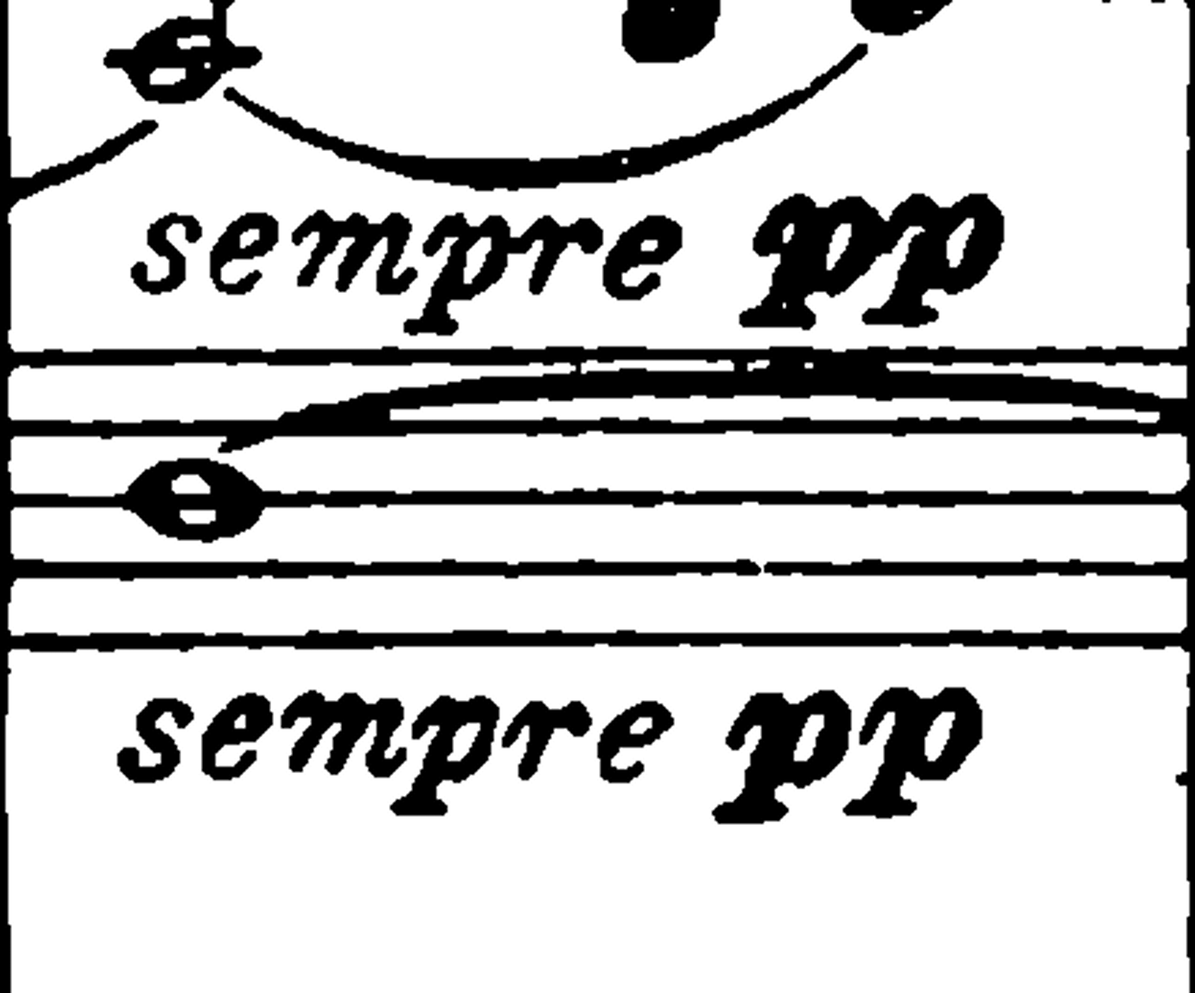beam: (772, 41, 867, 118), (70, 118, 155, 184)
flag8thDown: (248, 703, 272, 742), (690, 19, 714, 55)
noteheadBlackInSpace: (412, 766, 443, 794), (870, 770, 903, 794), (406, 786, 435, 810), (862, 308, 904, 324), (938, 687, 966, 710), (426, 741, 452, 765), (374, 698, 402, 720), (871, 771, 904, 789), (233, 47, 261, 67), (843, 799, 869, 815), (862, 308, 887, 324), (965, 194, 987, 209), (412, 720, 428, 737)
noteheadBlackOnLine: (137, 496, 177, 526), (731, 801, 787, 821), (657, 221, 682, 263), (900, 258, 949, 277), (579, 219, 602, 253), (774, 282, 812, 302), (756, 800, 787, 821), (479, 215, 507, 237), (129, 120, 157, 139), (94, 138, 117, 161), (766, 801, 787, 821), (0, 487, 14, 516), (801, 304, 815, 329), (651, 716, 673, 731), (470, 696, 493, 710), (577, 559, 596, 573), (441, 559, 456, 571)
restHBar: (105, 627, 1001, 651), (0, 559, 797, 580), (385, 155, 617, 188)
restWhole: (542, 347, 586, 363), (908, 633, 950, 646), (47, 165, 71, 185), (632, 492, 663, 507), (688, 633, 721, 646), (1058, 561, 1085, 575), (764, 563, 791, 575), (1071, 635, 1089, 649)
